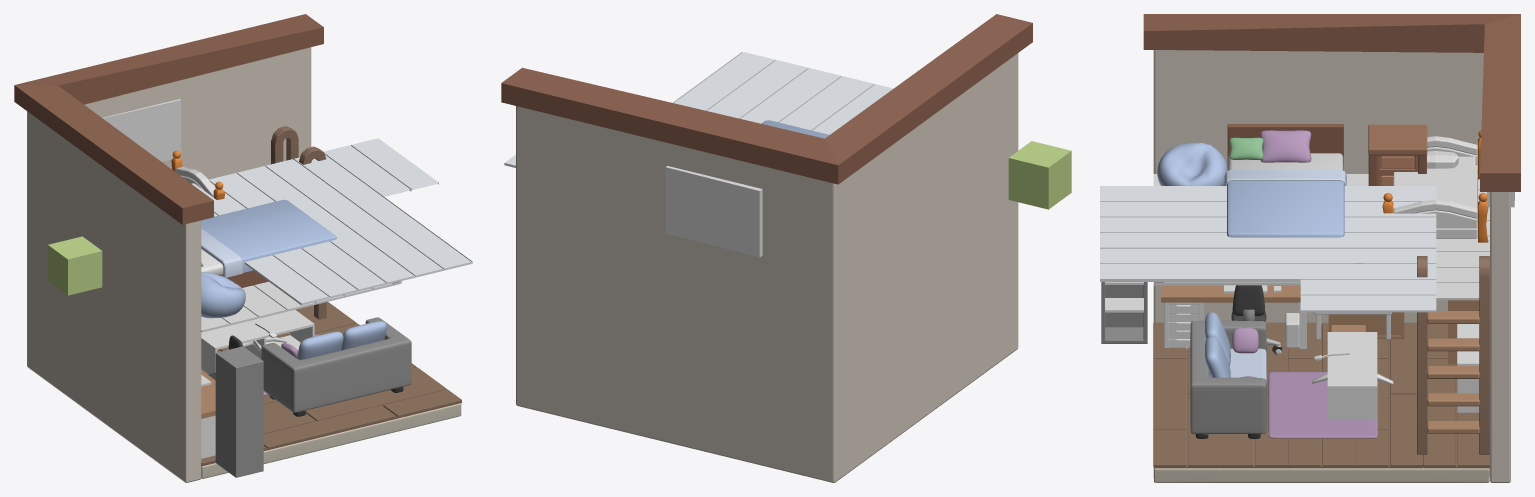
Rendered from isometric-room.fbx.
3 renders of one model, left to right at view 1: azimuth 30°, elevation 25°; view 2: azimuth 150°, elevation 25°; view 3: azimuth 270°, elevation 25°, orthographic. The views are drawn at different scales.
Visible parts, largest first — view 1: walls, old-floor, new one, Plane.014, floor_tiles, sheet, Cube, floor, Cube.013, Cube.050, Cube.006, Cube.007 (+6 smaller); view 2: walls, new one, old-floor, Cube.013, Cube.006; view 3: walls, old-floor, floor_tiles, new one, sheet, Plane.014, floor, Rug, Cube.050, Cube.035, Cube.029, Bean Bag (+26 smaller).
Part boxes in pixels (box(x1,y1,x2,y2)): walls: box(27, 47, 311, 482); old-floor: box(191, 138, 472, 305); new one: box(14, 14, 323, 224); Plane.014: box(261, 317, 411, 412); floor_tiles: box(201, 302, 461, 466); sheet: box(201, 199, 336, 277); Cube: box(215, 346, 263, 477); floor: box(201, 403, 461, 478); Cube.013: box(102, 99, 181, 161); Cube.050: box(201, 310, 314, 373); Cube.006: box(47, 236, 102, 295); Cube.007: box(201, 281, 373, 332); walls: box(516, 53, 1018, 482); new one: box(501, 14, 1032, 184); old-floor: box(504, 52, 893, 167); Cube.013: box(665, 166, 762, 257); Cube.006: box(1008, 141, 1071, 209); walls: box(1153, 50, 1510, 482); old-floor: box(1100, 186, 1436, 312); floor_tiles: box(1153, 322, 1490, 468); new one: box(1143, 14, 1520, 191); sheet: box(1224, 169, 1346, 237); Plane.014: box(1190, 320, 1266, 434); floor: box(1153, 467, 1489, 482); Rug: box(1268, 372, 1377, 438); Cube.050: box(1327, 332, 1377, 418); Cube.035: box(1154, 256, 1489, 454); Cube.029: box(1427, 311, 1479, 433); Bean Bag: box(1157, 142, 1227, 185).
Bounding box in the file's own units: 616 × 419 × 500.
